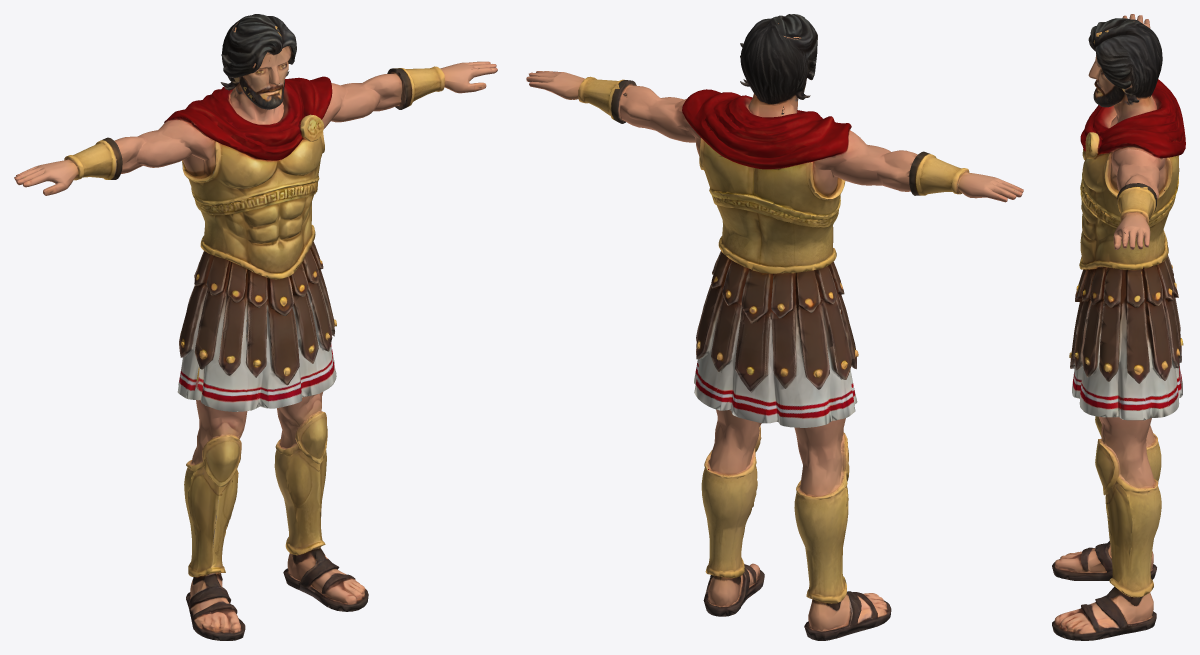
File: odysseus-tpose.glb
3 renders of one model, left to right at view 1: azimuth 30°, elevation 25°; view 2: azimuth 150°, elevation 25°; view 3: azimuth 270°, elevation 25°, orthographic. The views are drawn at different scales.
Visible parts, largest first — view 1: Odysseus; view 2: Odysseus; view 3: Odysseus.
Boxes of the visible parts, box(x1,y1,x2,y2) form: Odysseus: box(14, 14, 497, 640); Odysseus: box(526, 14, 1023, 640); Odysseus: box(1052, 14, 1185, 640).
Bounding box in the file's own units: 1.48 × 1.72 × 0.3591.
1 material, 1 textured.
